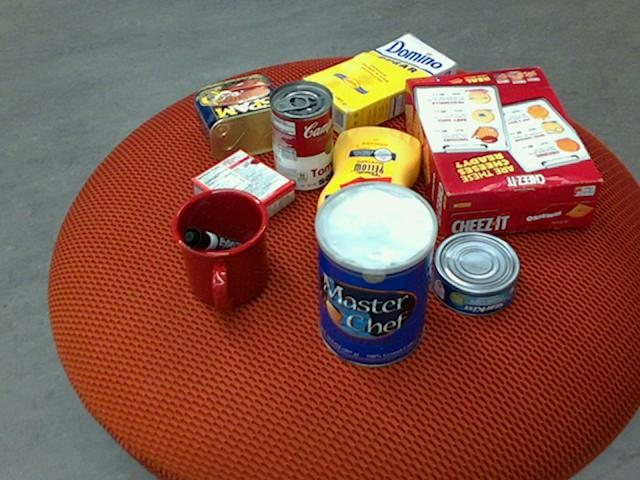cracker_box: (403, 66, 602, 236)
gelatin_box: (189, 148, 293, 234)
large_marker: (182, 228, 253, 260)
master_chef_can: (314, 183, 435, 368)
mug: (169, 188, 269, 313)
mustard_bottle: (317, 126, 422, 272)
potted_meat_can: (195, 73, 297, 161)
sugar_box: (300, 32, 456, 137)
tomato_soup_can: (269, 79, 333, 190)
tuna_fish_can: (431, 230, 520, 316)
